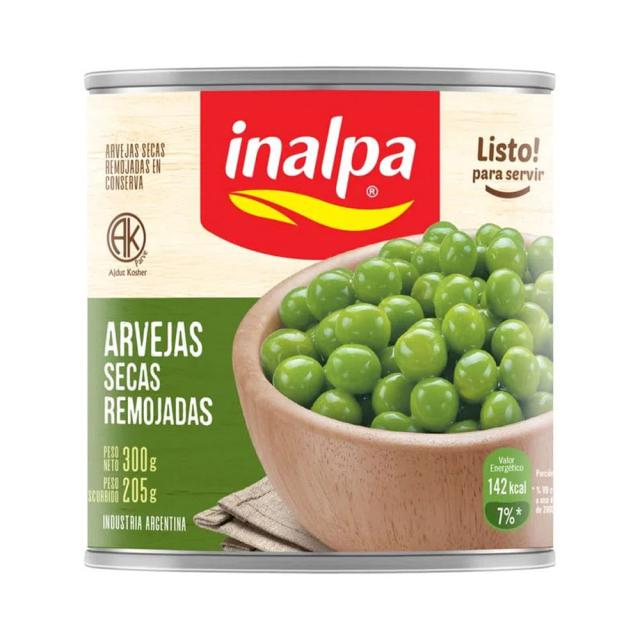arvejas: (287, 237, 556, 422)
